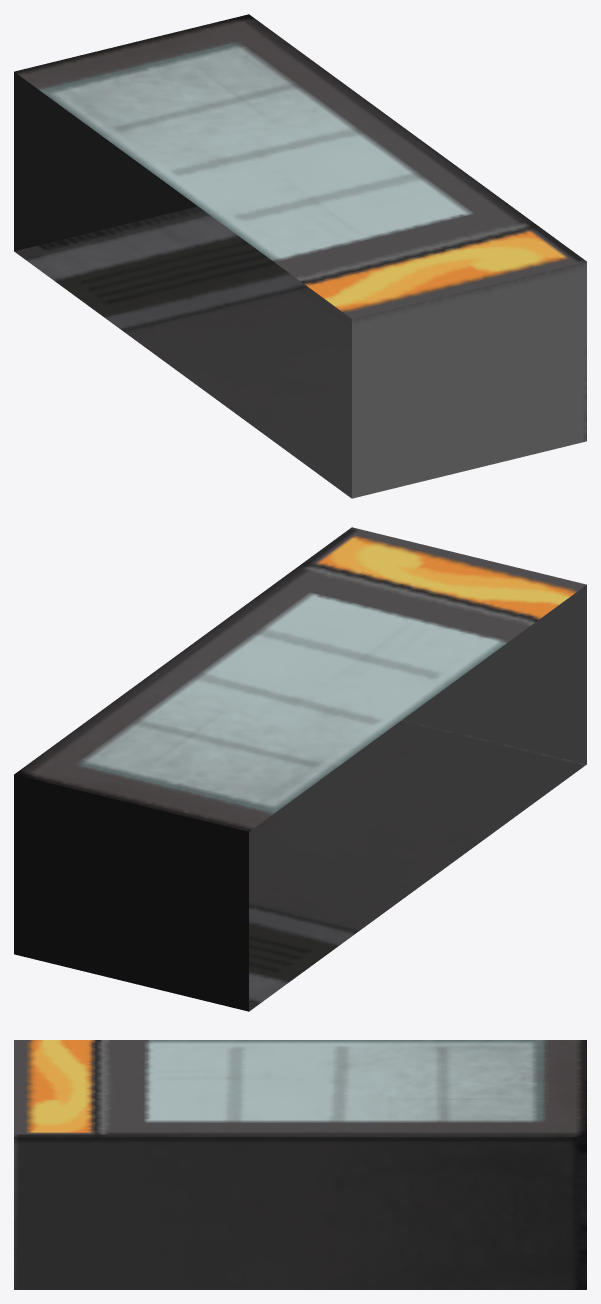
File: pz_g016_large_fridge_part0.obj
The picture shows the model from 3 angles, top to bottom: view 1: azimuth 30°, elevation 25°; view 2: azimuth 150°, elevation 25°; view 3: azimuth 270°, elevation 25°; orthographic projection. The views are drawn at different scales.
Visible parts, largest first — view 1: native_component_0_y+, native_component_0_y-, native_component_0_z+, native_component_0_z-; view 2: native_component_0_y+, native_component_0_y-, native_component_0_z-, native_component_0_z+; view 3: native_component_0_x+, native_component_0_y+.
Part boxes in pixels (box(x1,y1,x2,y2)): native_component_0_y+: box(14, 14, 586, 318); native_component_0_y-: box(14, 206, 351, 498); native_component_0_z+: box(352, 261, 586, 498); native_component_0_z-: box(14, 72, 197, 251); native_component_0_y+: box(14, 527, 586, 831); native_component_0_y-: box(249, 719, 586, 1011); native_component_0_z-: box(14, 774, 248, 1011); native_component_0_z+: box(403, 585, 586, 764); native_component_0_x+: box(14, 1137, 586, 1289); native_component_0_y+: box(14, 1040, 586, 1137).
Size of the model in its own units: 0.7984 by 0.5833 by 1.99.
Materials: 1 (1 with a texture image).
